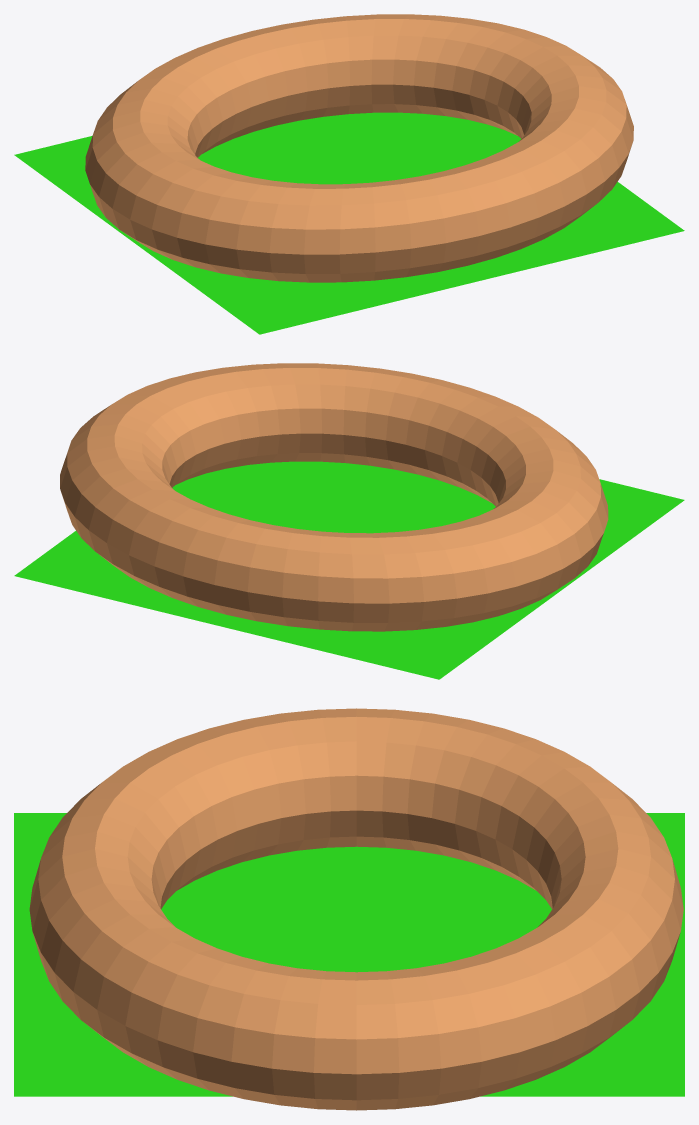
File: colosseum.gltf
3 views of the same model, one above another, from view 1: azimuth 30°, elevation 25°; view 2: azimuth 150°, elevation 25°; view 3: azimuth 270°, elevation 25° (orthographic). The views are drawn at different scales.
Visible parts, largest first — view 1: Torus, Plane; view 2: Torus, Plane; view 3: Torus, Plane.
Part boxes in pixels (left/top/right/bottom): Torus: left=85, top=14, right=633, bottom=282; Plane: left=14, top=112, right=684, bottom=334; Torus: left=60, top=363, right=608, bottom=631; Plane: left=14, top=461, right=684, bottom=679; Torus: left=29, top=708, right=683, bottom=1110; Plane: left=14, top=813, right=684, bottom=1096.
Bounding box in the file's own units: 2.33 × 0.4 × 2.
